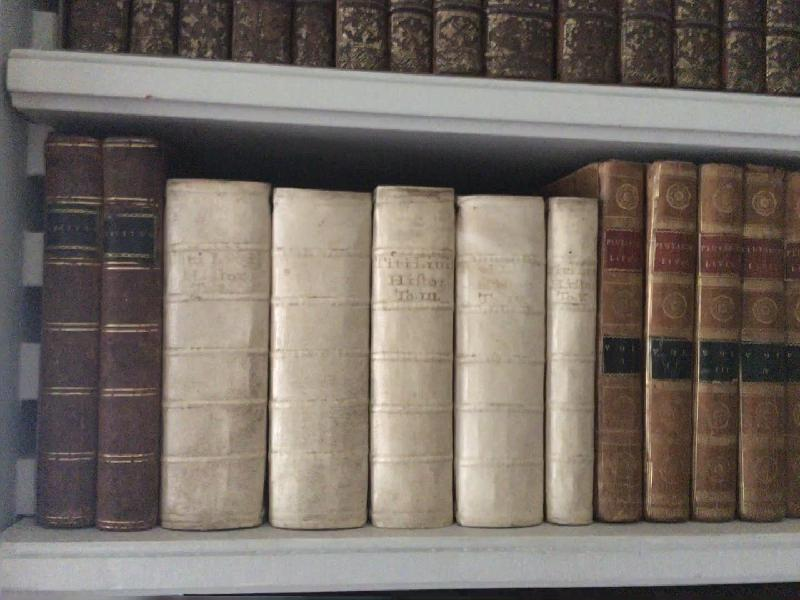Kk4-1_2: (34, 124, 162, 542)
Kk4-3_7: (164, 166, 604, 538)
Kk4-8_13: (586, 147, 800, 529)
